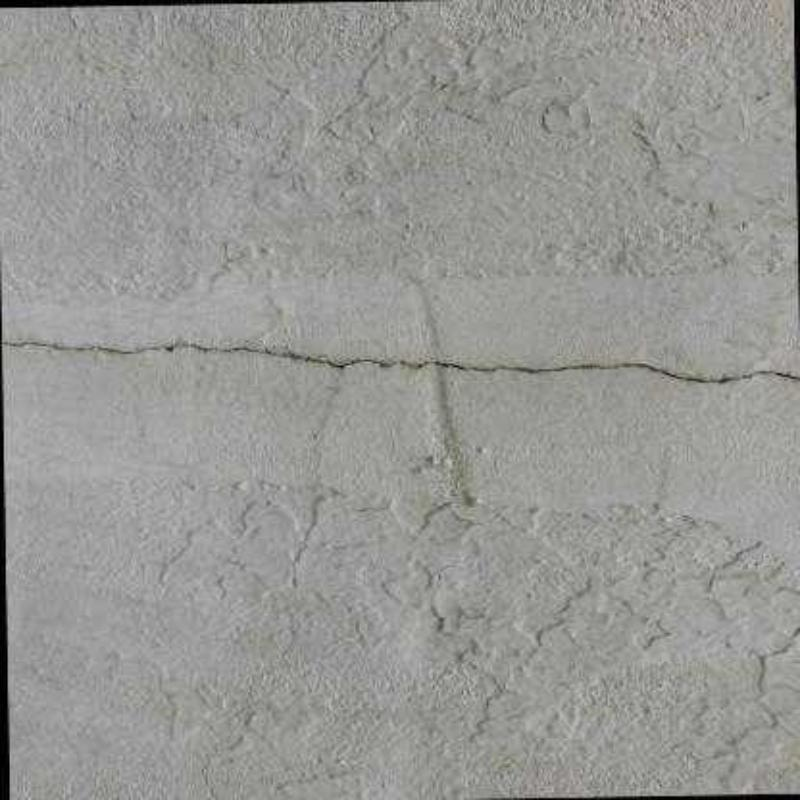crack: (2, 341, 800, 382)
